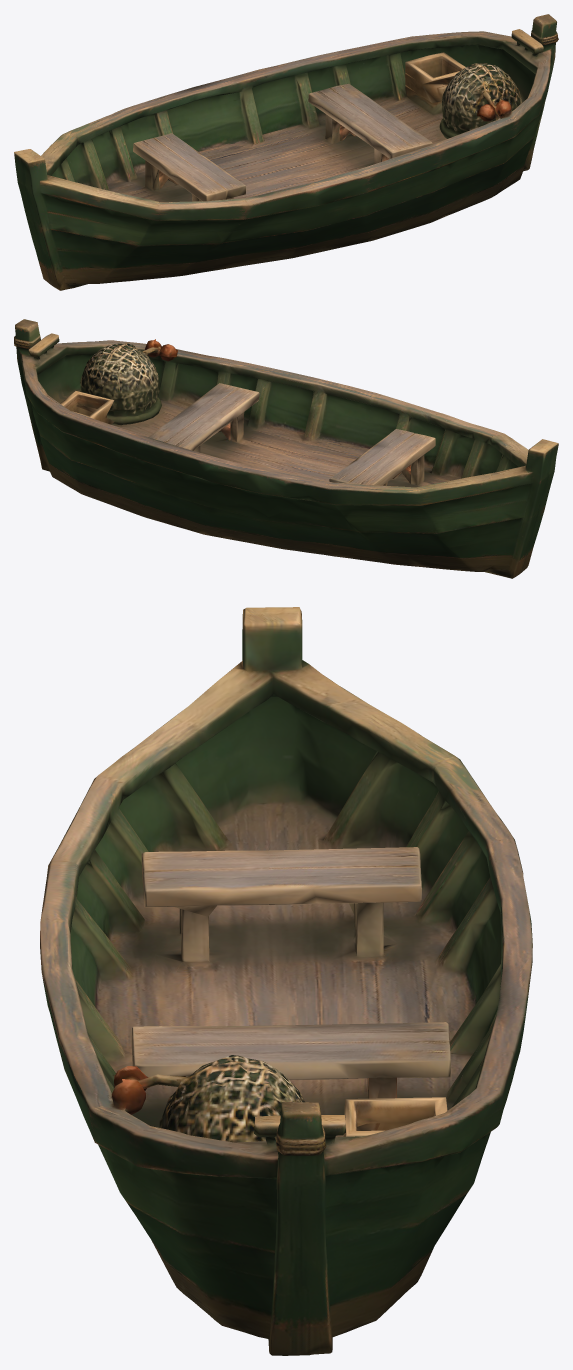
File: barco-do-pescador.glb
3 views of the same model, one above another, from view 1: azimuth 30°, elevation 25°; view 2: azimuth 150°, elevation 25°; view 3: azimuth 270°, elevation 25° (orthographic). The views are drawn at different scales.
Parts seen in each view (by area): view 1: tripo_node_df0c7b96-0cf4-4181-97e1-ad6961d6bfa2; view 2: tripo_node_df0c7b96-0cf4-4181-97e1-ad6961d6bfa2; view 3: tripo_node_df0c7b96-0cf4-4181-97e1-ad6961d6bfa2.
Boxes of the visible parts, left/top/right/bottom form: tripo_node_df0c7b96-0cf4-4181-97e1-ad6961d6bfa2: left=14, top=14, right=558, bottom=290; tripo_node_df0c7b96-0cf4-4181-97e1-ad6961d6bfa2: left=14, top=319, right=558, bottom=578; tripo_node_df0c7b96-0cf4-4181-97e1-ad6961d6bfa2: left=40, top=607, right=532, bottom=1355.
Size of the model in its own units: 4.8 by 1.19 by 1.94.
1 material, 1 textured.
